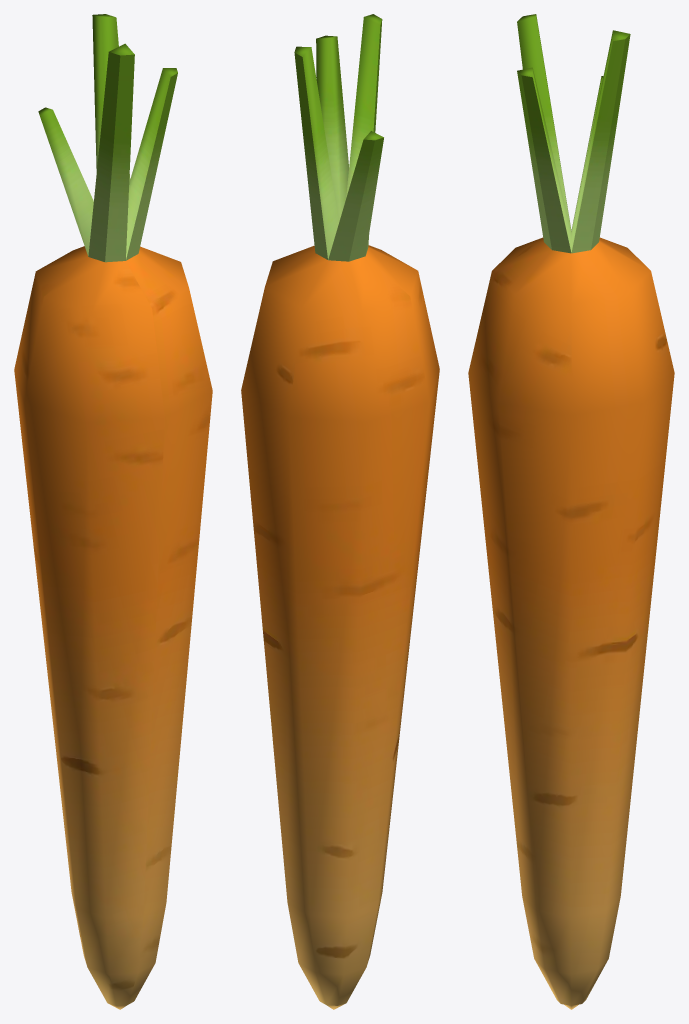
The model's file is carrot.glb.
3 renders of one model, left to right at view 1: azimuth 30°, elevation 25°; view 2: azimuth 150°, elevation 25°; view 3: azimuth 270°, elevation 25°, orthographic.
Visible parts, largest first — view 1: Carrot; view 2: Carrot; view 3: Carrot.
Part boxes in pixels (bbox=[...]): Carrot: bbox=[14, 14, 212, 1009]; Carrot: bbox=[241, 14, 439, 1009]; Carrot: bbox=[468, 14, 674, 1009].
Size of the model in its own units: 0.9081 by 4.79 by 0.9081.
Materials: 2 (2 with a texture image).
